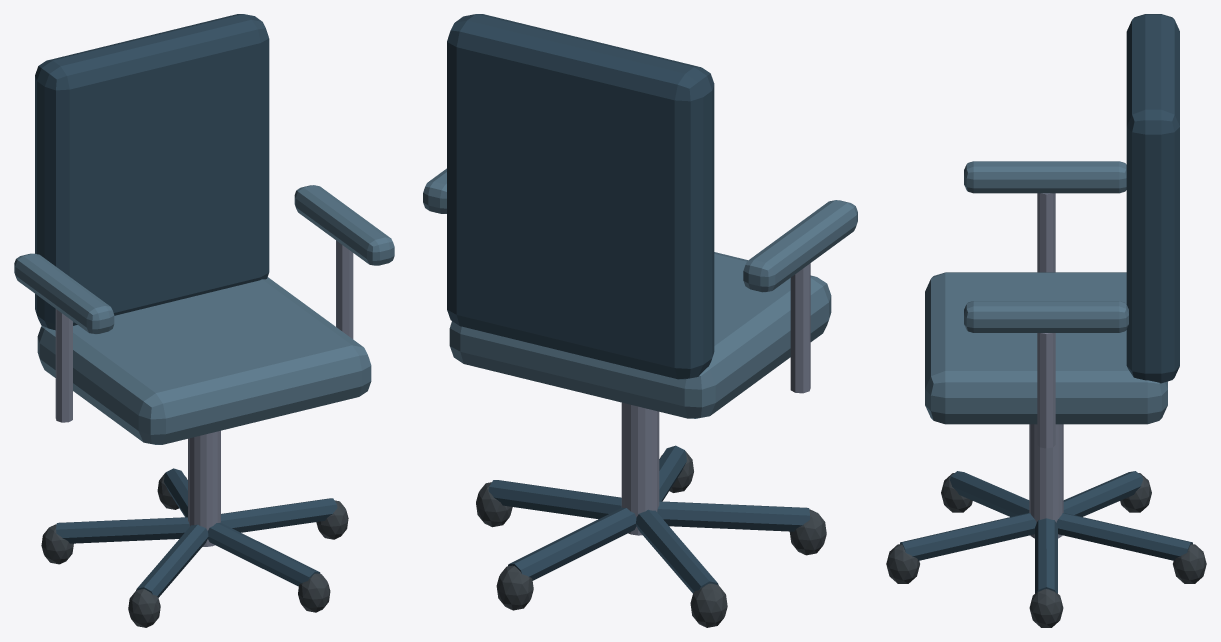
File: office_chair.glb
3 renders of one model, left to right at view 1: azimuth 30°, elevation 25°; view 2: azimuth 150°, elevation 25°; view 3: azimuth 270°, elevation 25°, orthographic. The views are drawn at different scales.
Visible parts, largest first — view 1: office_chair_Mesh; view 2: office_chair_Mesh; view 3: office_chair_Mesh.
Part boxes in pixels (bbox=[...]): office_chair_Mesh: bbox=[14, 14, 394, 627]; office_chair_Mesh: bbox=[423, 14, 857, 627]; office_chair_Mesh: bbox=[886, 14, 1206, 627].
Size of the model in its own units: 0.745 by 1.14 by 0.6597.
